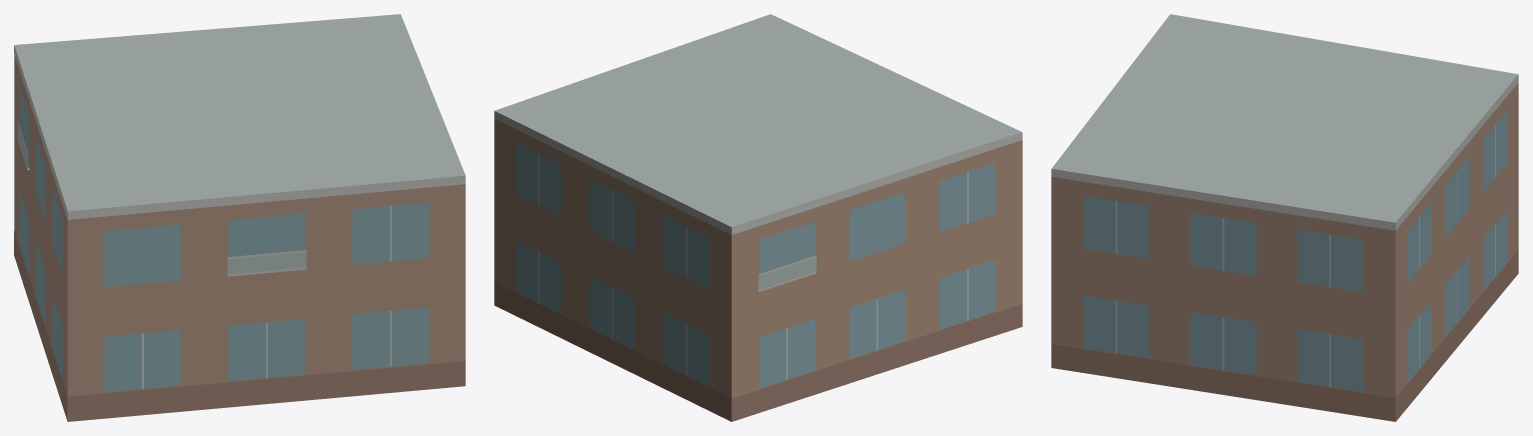
Rendered from survey-upis-32657449.glb.
The picture shows the model from 3 angles, left to right: view 1: azimuth 30°, elevation 25°; view 2: azimuth 150°, elevation 25°; view 3: azimuth 270°, elevation 25°; orthographic projection. The views are drawn at different scales.
Visible parts, largest first — view 1: survey-upis-32657449.tmp; view 2: survey-upis-32657449.tmp; view 3: survey-upis-32657449.tmp.
Part boxes in pixels (<box>): survey-upis-32657449.tmp: <box>14,14,465,421</box>; survey-upis-32657449.tmp: <box>494,14,1022,421</box>; survey-upis-32657449.tmp: <box>1051,14,1518,421</box>.
Bounding box in the file's own units: 13.73 × 6.1 × 12.99.
